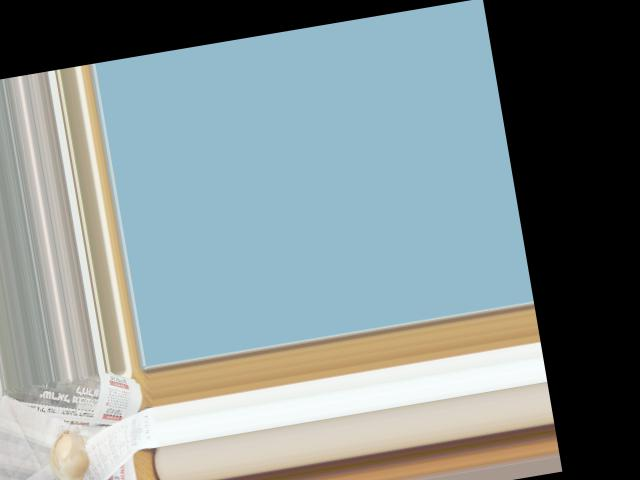onion: (46, 430, 91, 480)
